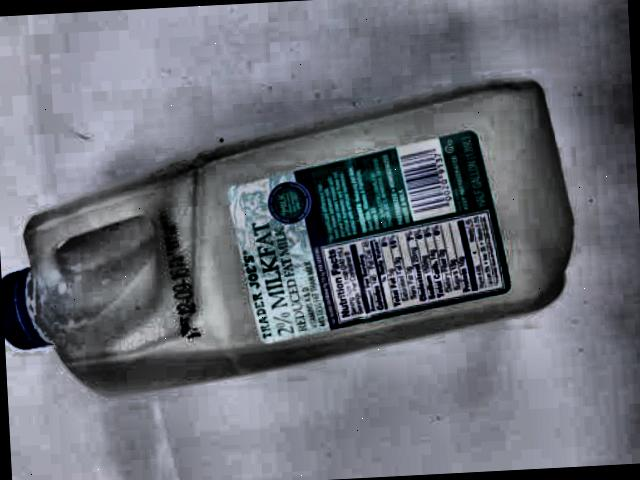Plastic: (0, 37, 601, 450)
